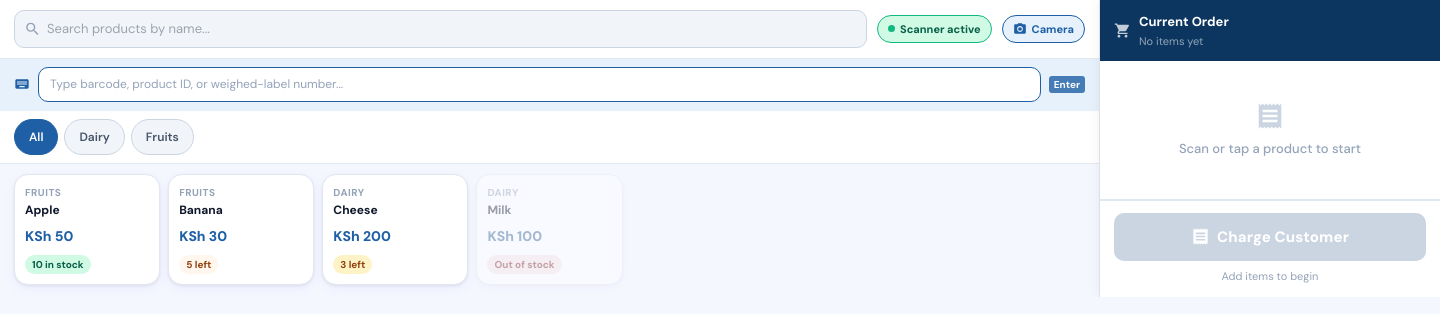
search › filters the product grid by name as the user types
This screenshot has width=1440, height=314.
Type "mil" into the field with placeholder "Search products by name..." at (440, 29), box [14, 10, 867, 48]
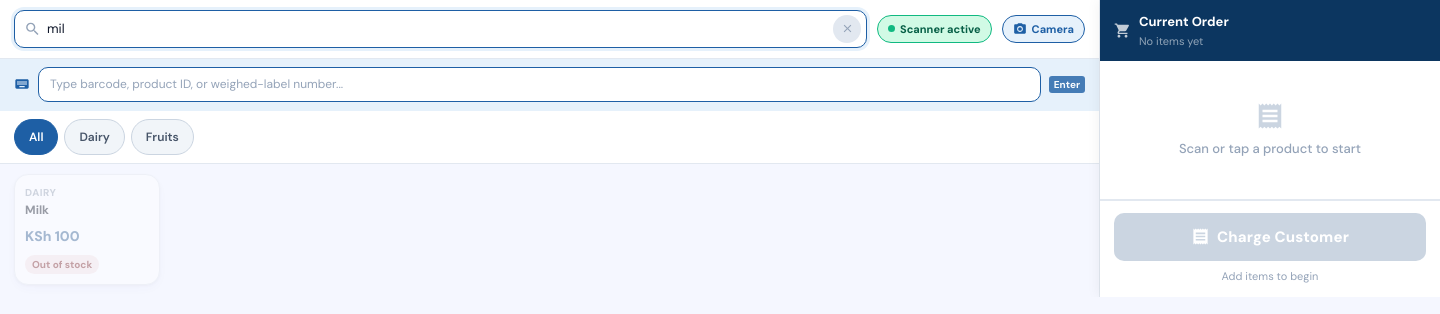
Expected: the text "Milk" is shown, [25, 202, 49, 218]
Now the button "Apple" is gone
Now the button "Banana" is gone
